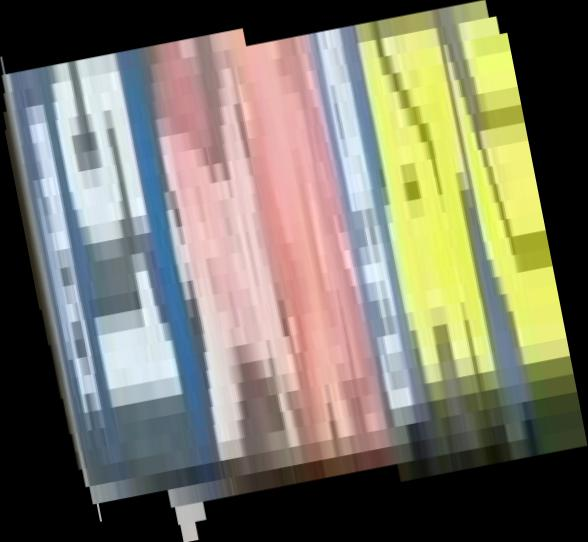flat: (1, 1, 588, 542)
